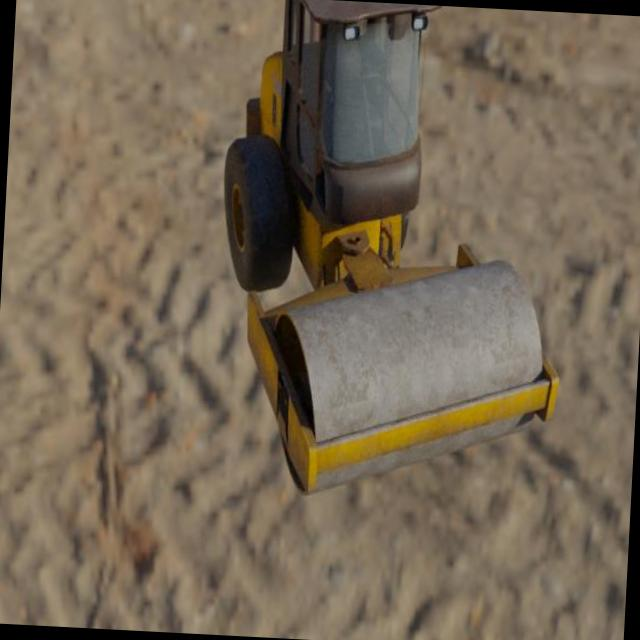Roller: (206, 0, 578, 509)
